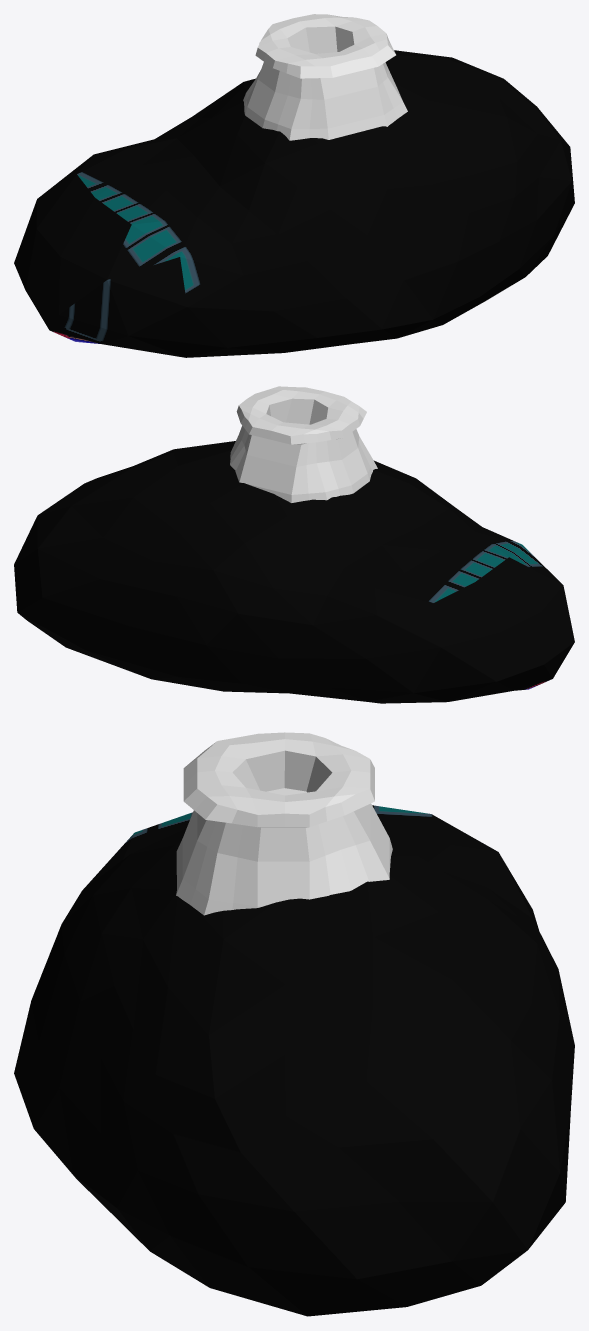
File: TestVase.fbx
3 views of the same model, one above another, from view 1: azimuth 30°, elevation 25°; view 2: azimuth 150°, elevation 25°; view 3: azimuth 270°, elevation 25° (orthographic). The views are drawn at different scales.
Parts seen in each view (by area): view 1: Stone1, Cube; view 2: Stone1, Cube; view 3: Stone1, Cube.
Part boxes in pixels (x1=…): Stone1: x1=14, y1=50, x2=574, y2=357; Cube: x1=243, y1=14, x2=407, y2=140; Stone1: x1=14, y1=441, x2=574, y2=703; Cube: x1=230, y1=386, x2=377, y2=502; Stone1: x1=14, y1=805, x2=574, y2=1316; Cube: x1=176, y1=732, x2=392, y2=915.
Size of the model in its own units: 274 by 132 by 166.
